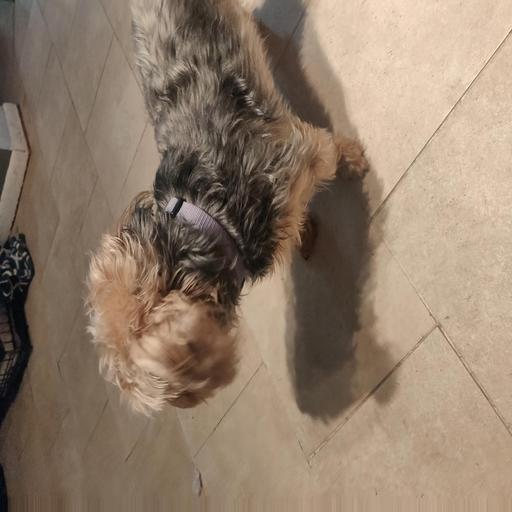dog: (70, 114, 374, 418)
